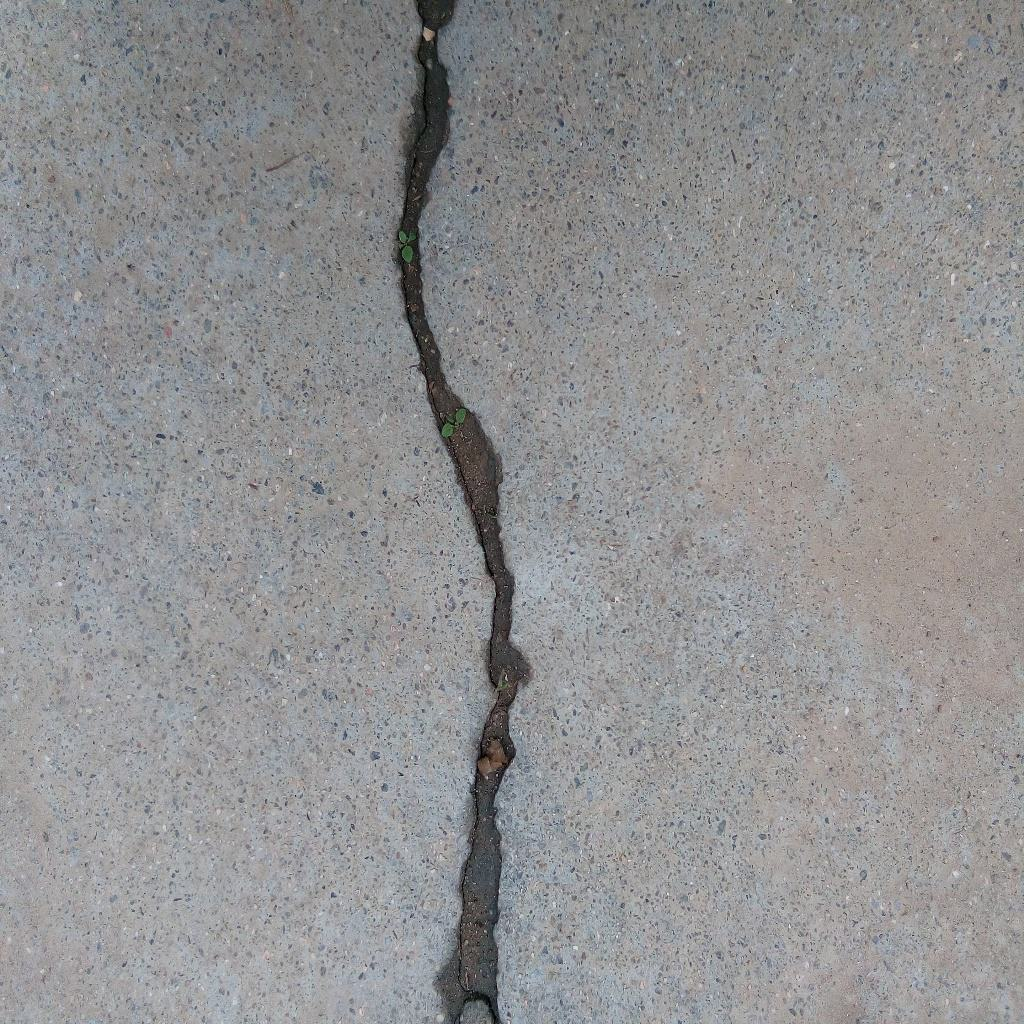Crack: (395, 1, 533, 1024)
